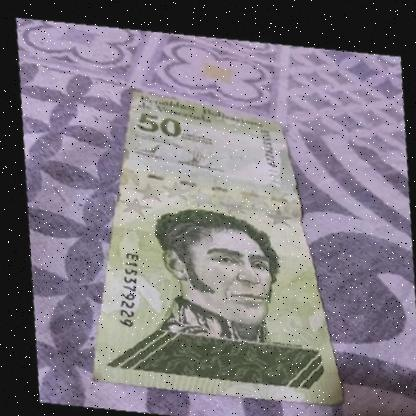fifty-front-vef: (48, 66, 341, 416)
